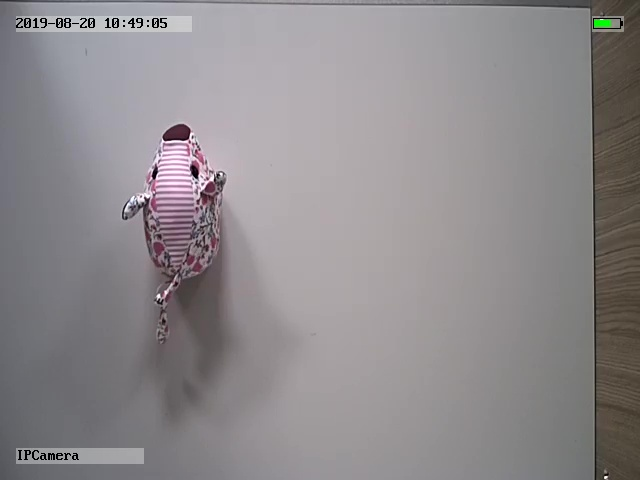pig: (122, 122, 228, 346)
